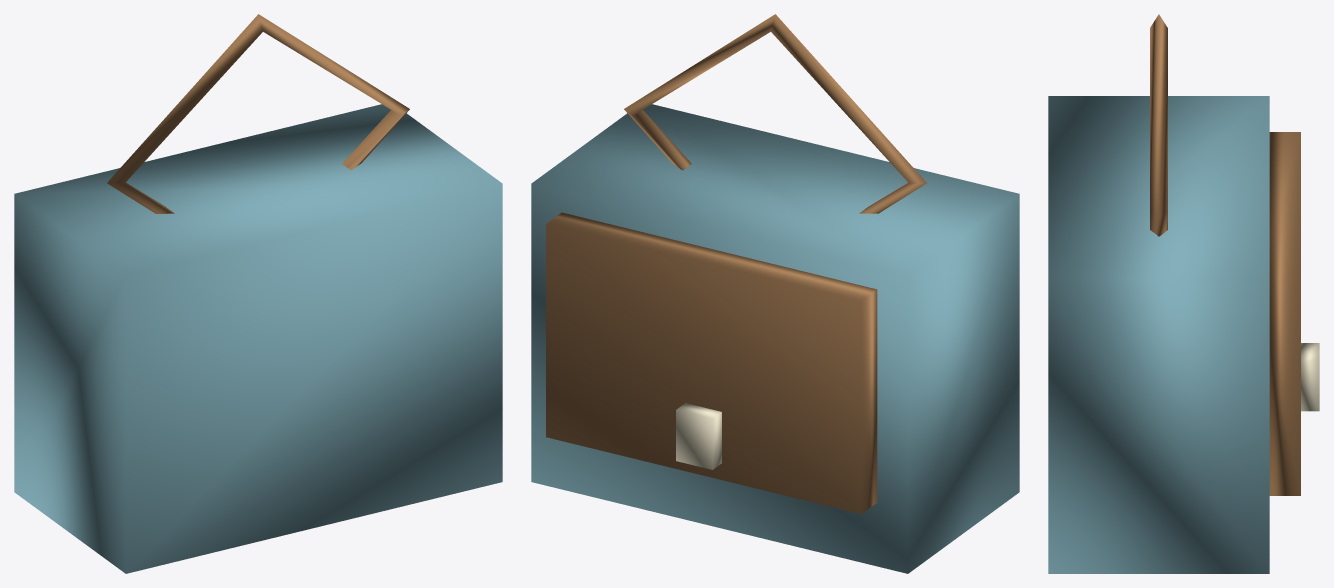
Rendered from quest_camera_bag_low.glb.
3 views of the same model, side by side, from view 1: azimuth 30°, elevation 25°; view 2: azimuth 150°, elevation 25°; view 3: azimuth 270°, elevation 25° (orthographic).
Size of the model in its own units: 0.37 by 0.444 by 0.233.
